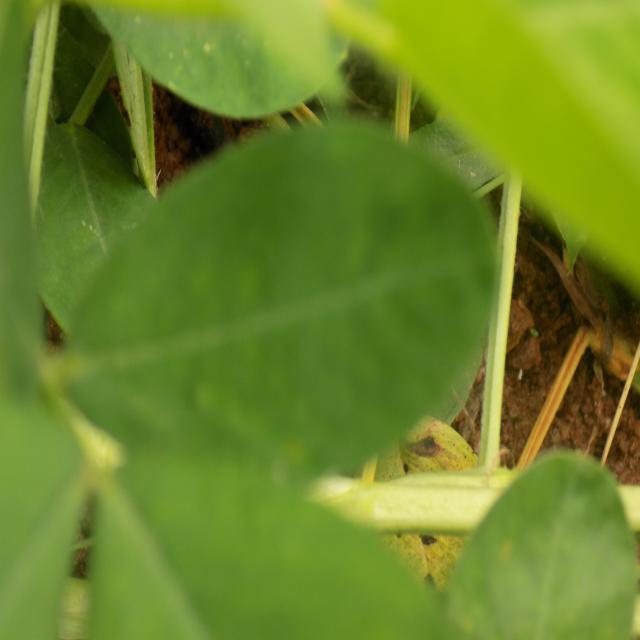Ground nut_healthy: (64, 114, 498, 486)
